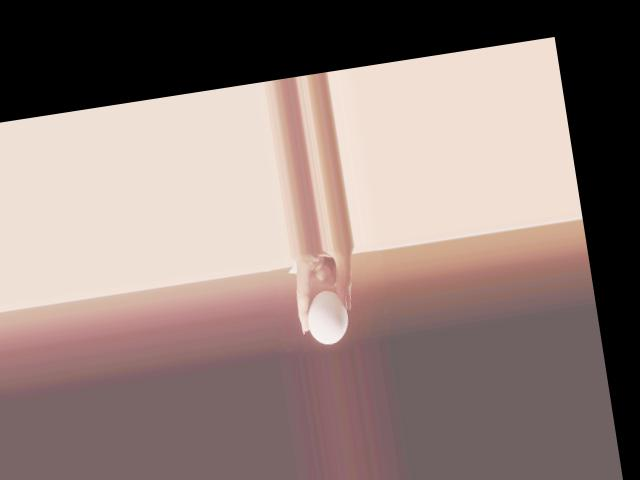egg: (304, 286, 352, 346)
